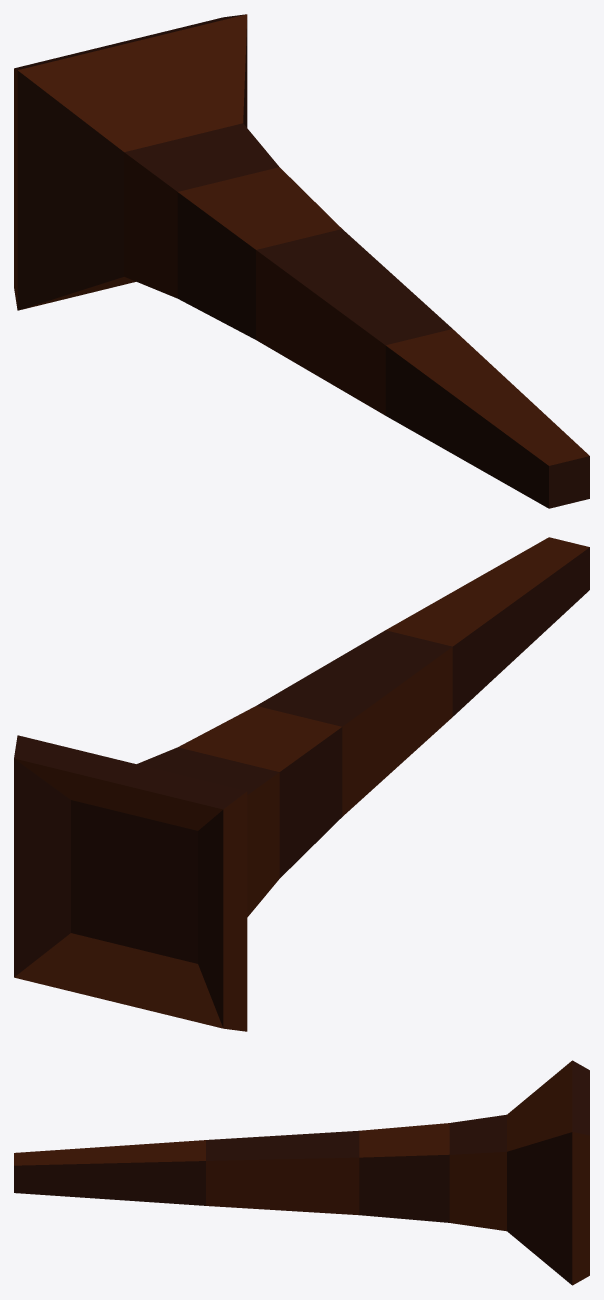
File: Demon King Staff.fbx
3 renders of one model, top to bottom at view 1: azimuth 30°, elevation 25°; view 2: azimuth 150°, elevation 25°; view 3: azimuth 270°, elevation 25°, orthographic. The views are drawn at different scales.
Visible parts, largest first — view 1: Demon King Staff; view 2: Demon King Staff; view 3: Demon King Staff.
Part boxes in pixels (x1,y1,x2,y2): Demon King Staff: (14, 14, 589, 508); Demon King Staff: (14, 537, 589, 1031); Demon King Staff: (14, 1060, 589, 1285).
Size of the model in its own units: 59.52 by 59.52 by 202.
